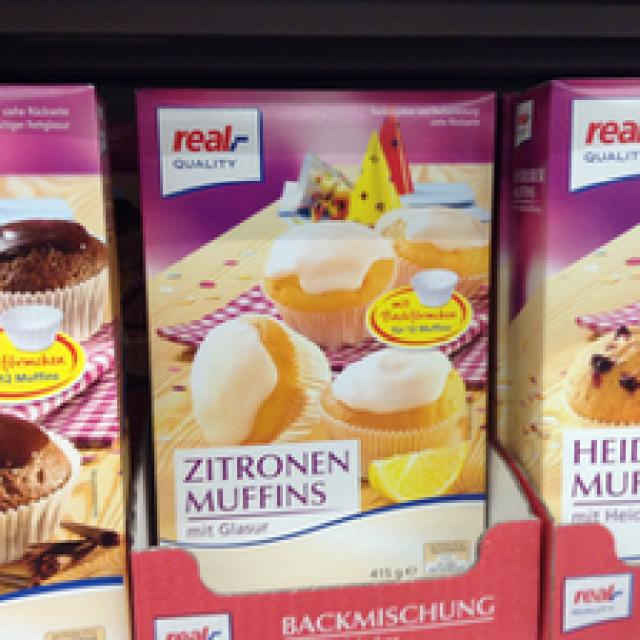groceries: (129, 83, 497, 580)
